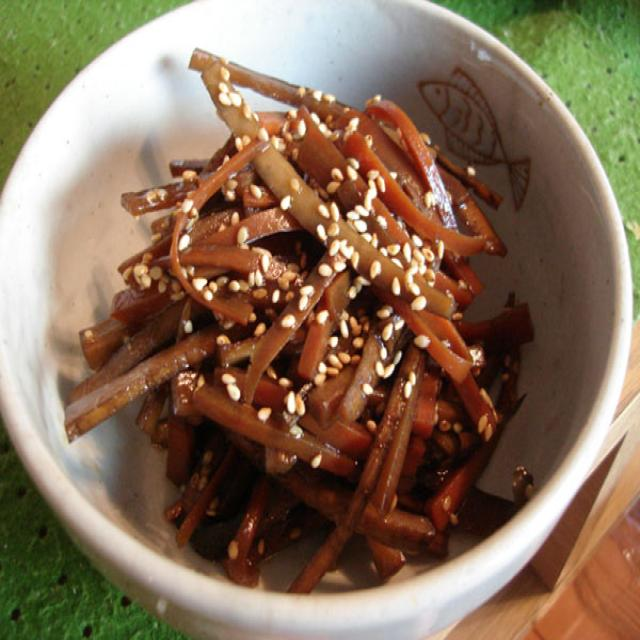蔬菜料理: (22, 32, 634, 584)
